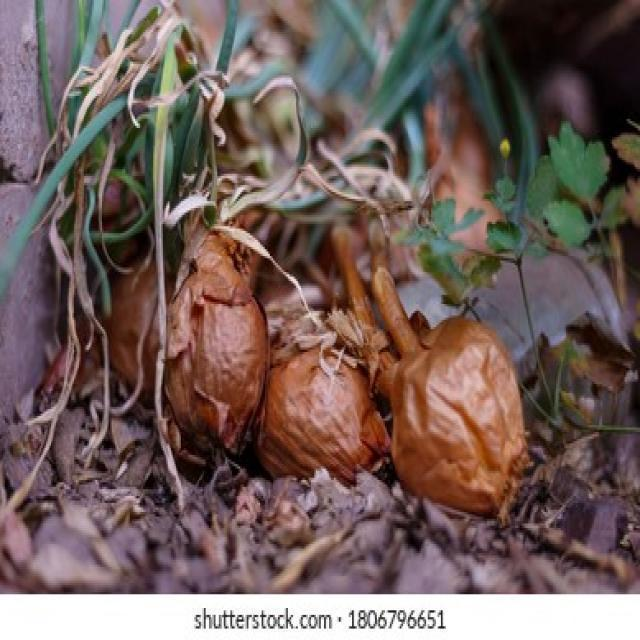Onion: (0, 0, 491, 523), (373, 315, 534, 522), (163, 230, 273, 483), (258, 348, 395, 486), (104, 253, 170, 407)
